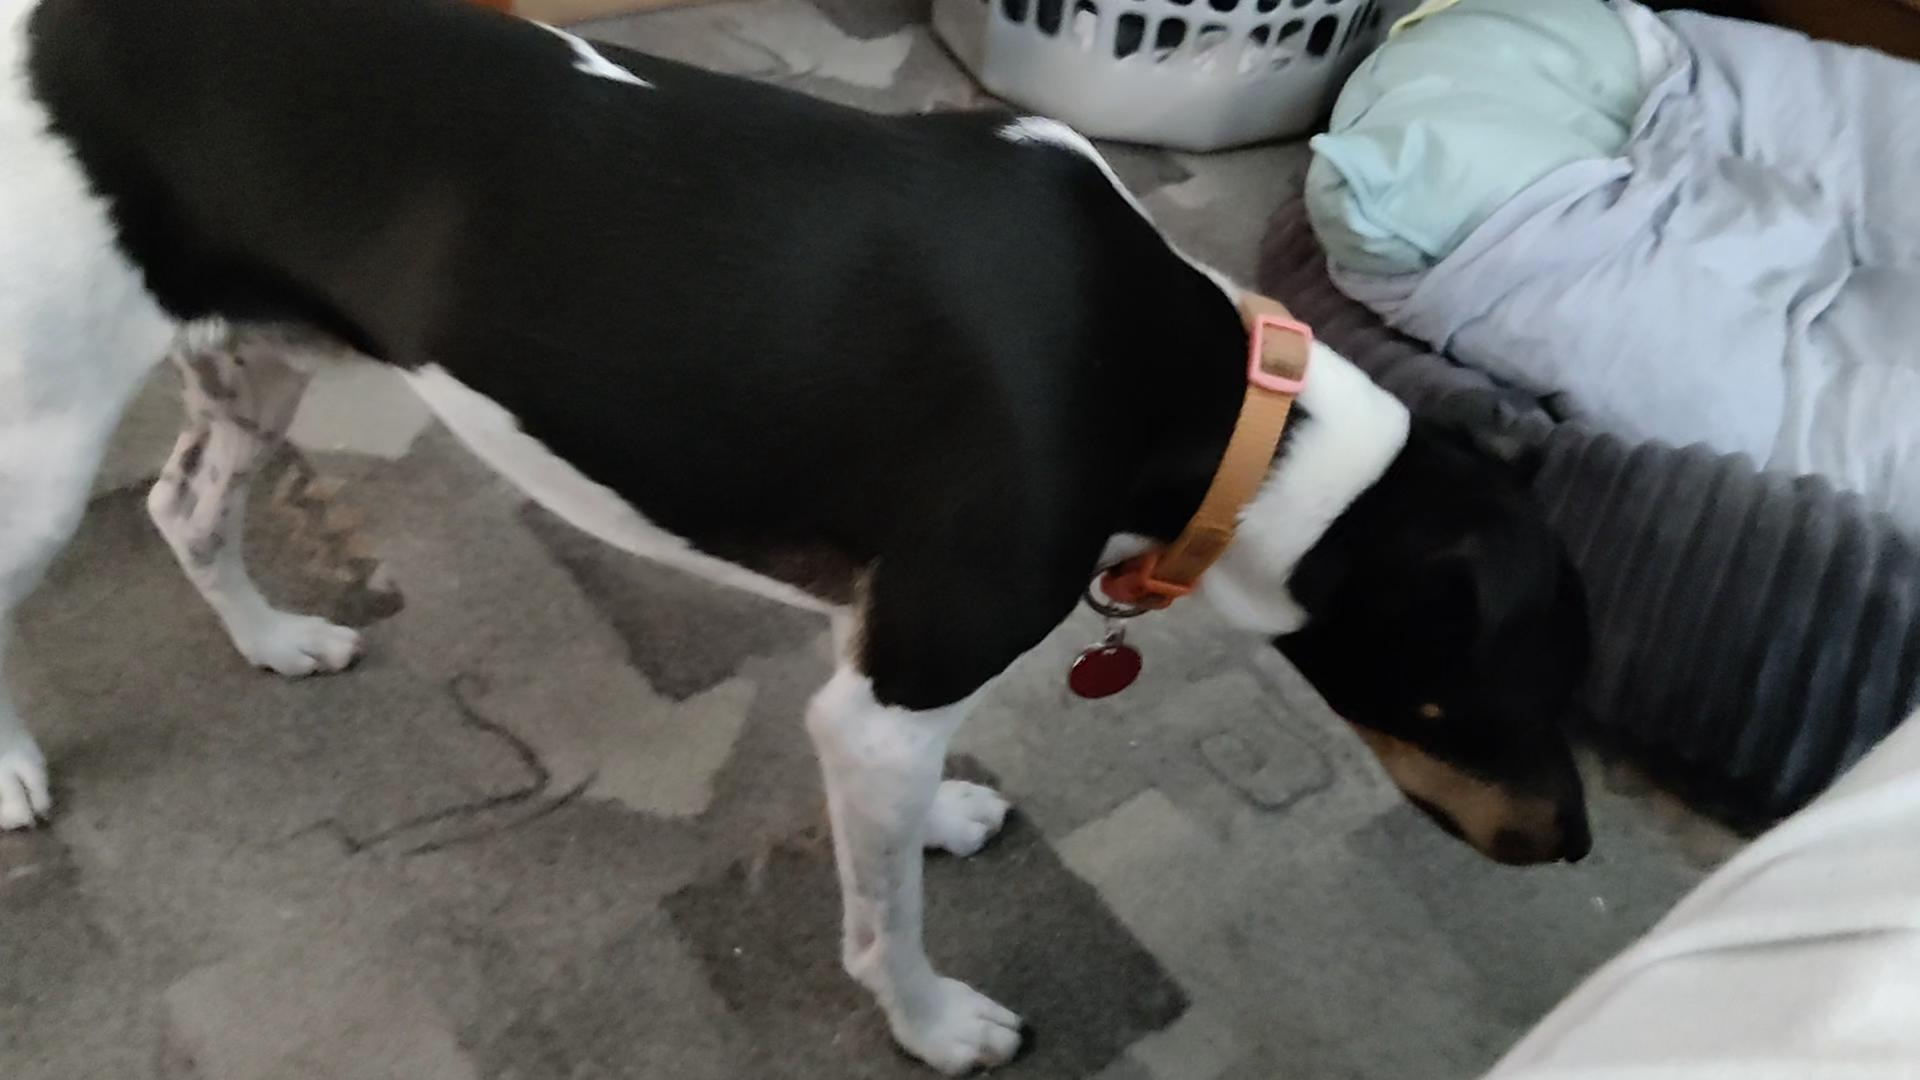Dog: (0, 0, 1610, 1079)
